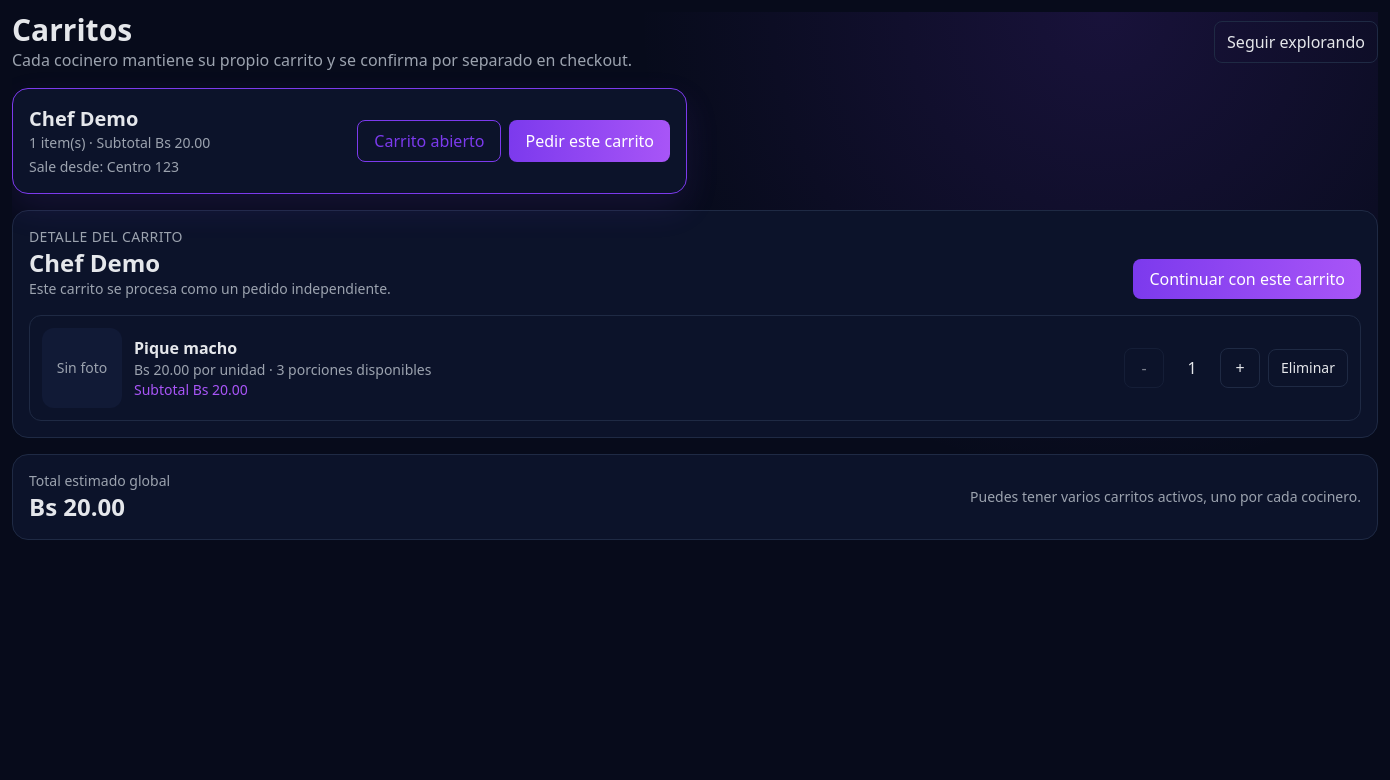
Test: ClientCartPage › carga el carrito y permite aumentar cantidad
This screenshot has width=1390, height=780.
Expected: the number of headings "Chef Demo" is 2, [29,105,138,132]; [29,246,160,279]
Expected: the button "Carrito abierto" is shown, [357,120,502,162]
Click the button "+": (1240, 368) [1220,348,1260,388]
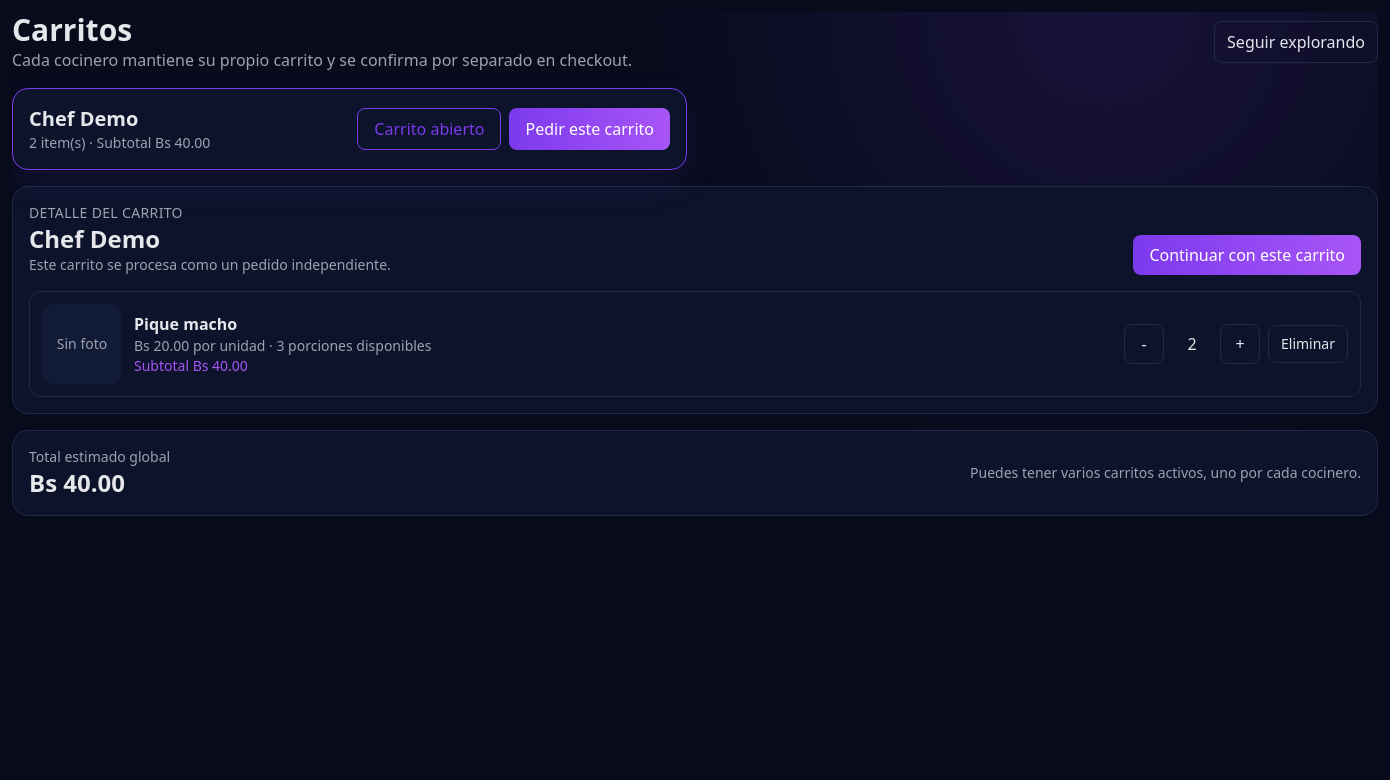
Result: the text "2 item(s) · Subtotal Bs 40.00" is shown at [29,133,210,153]
Result: the text "Bs 40.00" is shown at [29,466,125,499]
